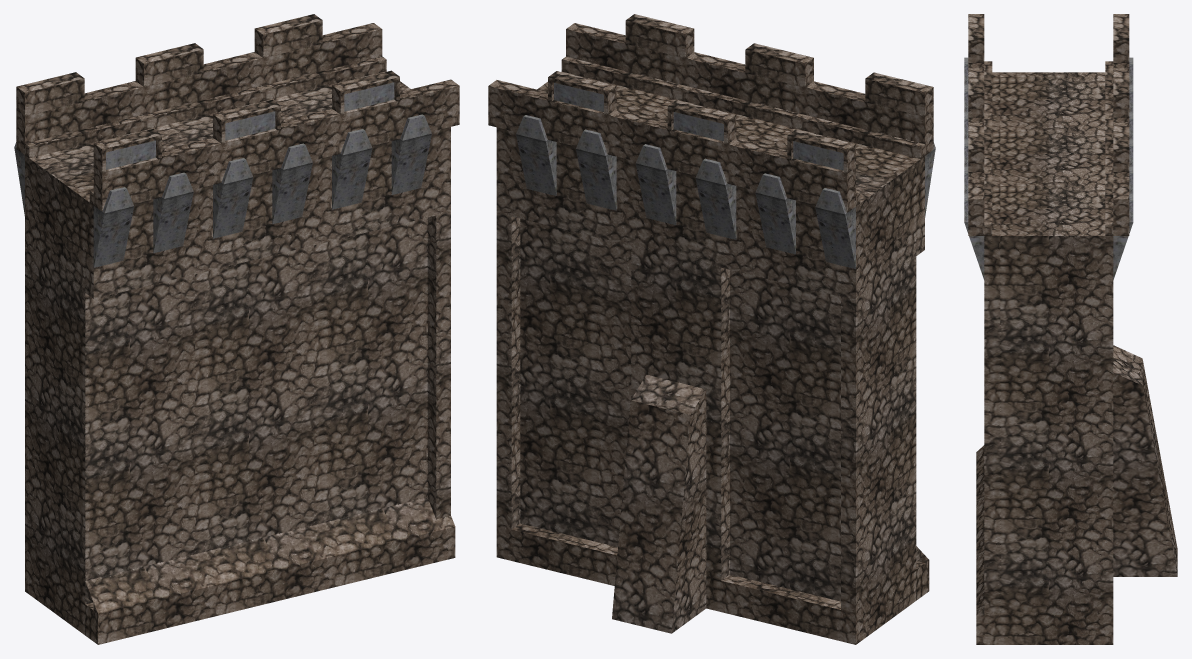
The model's file is prefabs_tower1wall.glb.
3 views of the same model, side by side, from view 1: azimuth 30°, elevation 25°; view 2: azimuth 150°, elevation 25°; view 3: azimuth 270°, elevation 25° (orthographic). The views are drawn at different scales.
Visible parts, largest first — view 1: tower1wall; view 2: tower1wall; view 3: tower1wall.
Boxes of the visible parts, x1,y1,x2,y2 form: tower1wall: (14,14,459,644); tower1wall: (488,14,935,644); tower1wall: (964,14,1177,644).
Bounding box in the file's own units: 12 × 16 × 6.63.
2 materials, 2 textured.
